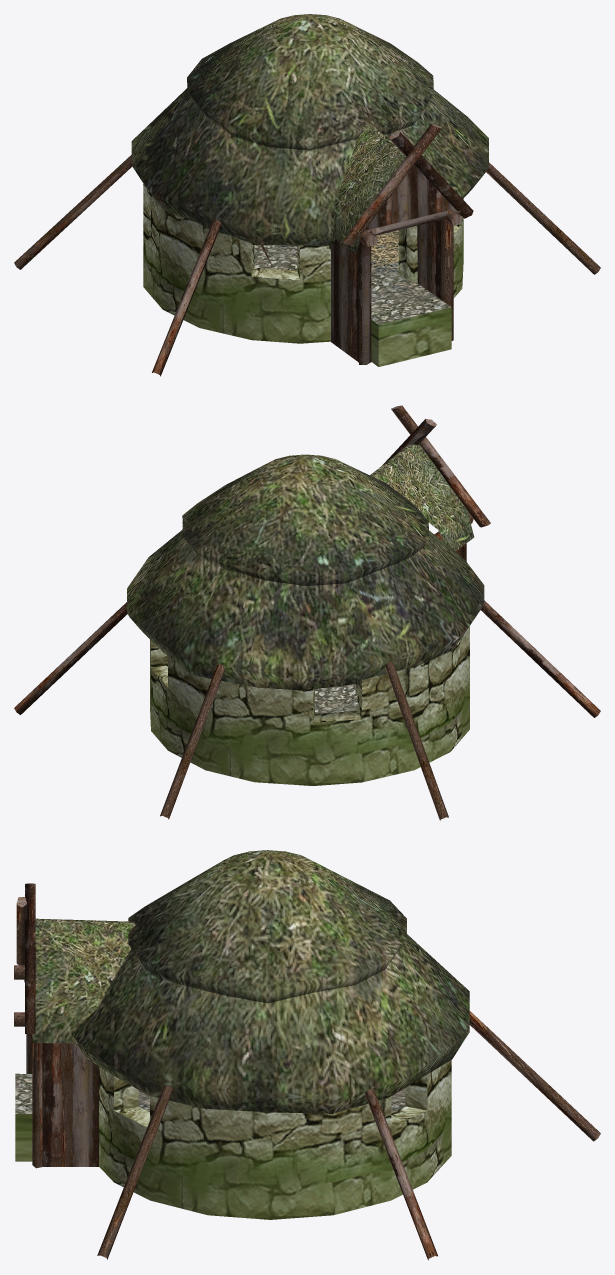
Rendered from building_hovel4.glb.
3 views of the same model, one above another, from view 1: azimuth 30°, elevation 25°; view 2: azimuth 150°, elevation 25°; view 3: azimuth 270°, elevation 25° (orthographic). The views are drawn at different scales.
Visible parts, largest first — view 1: building_hovel4; view 2: building_hovel4; view 3: building_hovel4.
Boxes of the visible parts, <box> form: building_hovel4: <box>14,14,600,376</box>; building_hovel4: <box>14,405,600,820</box>; building_hovel4: <box>14,850,600,1260</box>.
Size of the model in its own units: 6.93 by 3.88 by 7.01.
6 materials, 6 textured.
